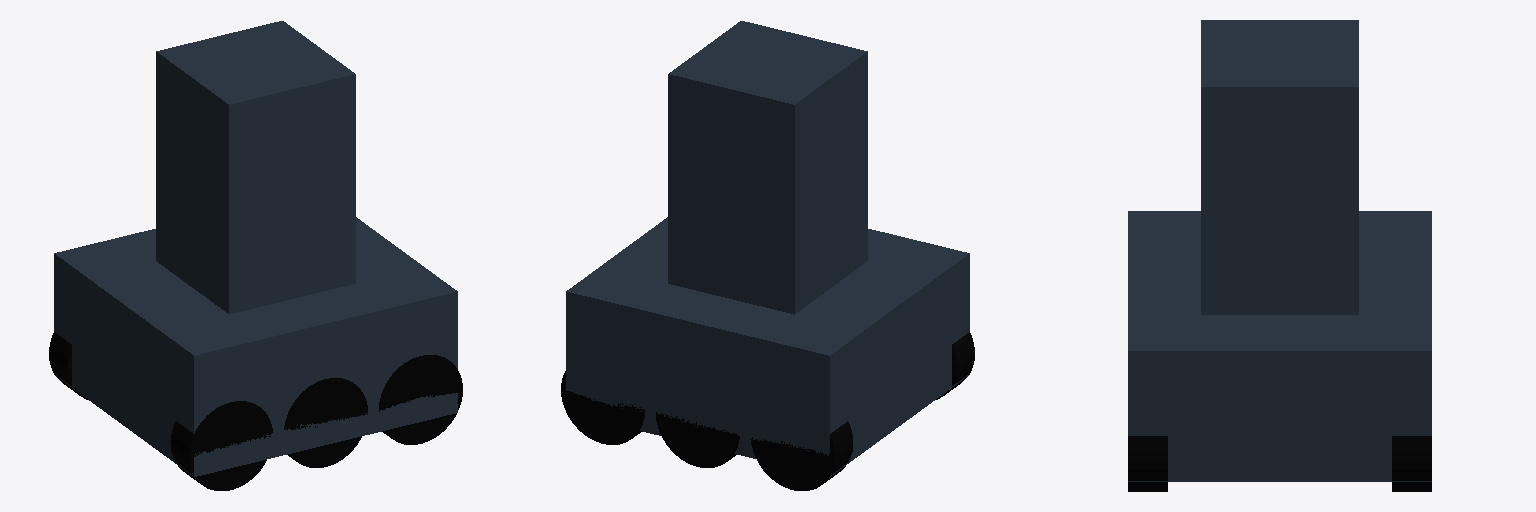
The robot description file, URDF, robot "wingbot_ugv":
<?xml version="1.0"?>
<!-- 자동 생성: WINGBOT-UGV. 프로파일의 가정 값 69개 포함 — scripts/calib_report.py. 직접 고치지 말 것 -->
<robot name="wingbot_ugv">
  <material name="body"><color rgba="0.2 0.25 0.3 1"/></material>
  <material name="wheel"><color rgba="0.05 0.05 0.05 1"/></material>
  <material name="sensor"><color rgba="0.9 0.5 0.1 1"/></material>
  <link name="base_footprint"/>
  <joint name="base_joint" type="fixed"><parent link="base_footprint"/><child link="base_link"/><origin xyz="0 0 0.0400" rpy="0 0 0"/></joint>
  <link name="base_link">
    <inertial><origin xyz="0.0000 0.0000 0.0900" rpy="0 0 0"/><mass value="2.5400"/><inertia ixx="0.037531" ixy="0" ixz="0" iyy="0.039851" iyz="0" izz="0.027888"/></inertial>
    <visual><origin xyz="0 0 0.0350"/><geometry><box size="0.2500 0.2300 0.1100"/></geometry><material name="body"/></visual>
    <collision><origin xyz="0 0 0.0350"/><geometry><box size="0.2500 0.2300 0.1100"/></geometry></collision>
    <visual><origin xyz="0 0 0.1850"/><geometry><box size="0.120 0.120 0.1900"/></geometry><material name="body"/></visual>
    <collision><origin xyz="0 0 0.1850"/><geometry><box size="0.120 0.120 0.1900"/></geometry></collision>
  </link>
  <link name="wheel_front_left">
    <inertial><origin xyz="0.0000 0.0000 0.0000" rpy="0 0 0"/><mass value="0.0600"/><inertia ixx="0.000028" ixy="0" ixz="0" iyy="0.000048" iyz="0" izz="0.000028"/></inertial>
    <visual><origin rpy="1.57080 0 0"/><geometry><cylinder radius="0.0400" length="0.0300"/></geometry><material name="wheel"/></visual>
    <collision><origin rpy="1.57080 0 0"/><geometry><cylinder radius="0.0400" length="0.0300"/></geometry></collision>
  </link>
  <joint name="wheel_front_left_joint" type="continuous"><parent link="base_link"/><child link="wheel_front_left"/><origin xyz="0.0900 0.1000 0" rpy="0 0 0"/><axis xyz="0 1 0"/><dynamics damping="0.01" friction="0.01"/></joint>
  <gazebo reference="wheel_front_left"><mu1>0.800</mu1><mu2>0.800</mu2><kp>1e5</kp><kd>1.0</kd></gazebo>
  <link name="wheel_front_right">
    <inertial><origin xyz="0.0000 0.0000 0.0000" rpy="0 0 0"/><mass value="0.0600"/><inertia ixx="0.000028" ixy="0" ixz="0" iyy="0.000048" iyz="0" izz="0.000028"/></inertial>
    <visual><origin rpy="1.57080 0 0"/><geometry><cylinder radius="0.0400" length="0.0300"/></geometry><material name="wheel"/></visual>
    <collision><origin rpy="1.57080 0 0"/><geometry><cylinder radius="0.0400" length="0.0300"/></geometry></collision>
  </link>
  <joint name="wheel_front_right_joint" type="continuous"><parent link="base_link"/><child link="wheel_front_right"/><origin xyz="0.0900 -0.1000 0" rpy="0 0 0"/><axis xyz="0 1 0"/><dynamics damping="0.01" friction="0.01"/></joint>
  <gazebo reference="wheel_front_right"><mu1>0.800</mu1><mu2>0.800</mu2><kp>1e5</kp><kd>1.0</kd></gazebo>
  <link name="wheel_mid_left">
    <inertial><origin xyz="0.0000 0.0000 0.0000" rpy="0 0 0"/><mass value="0.0600"/><inertia ixx="0.000028" ixy="0" ixz="0" iyy="0.000048" iyz="0" izz="0.000028"/></inertial>
    <visual><origin rpy="1.57080 0 0"/><geometry><cylinder radius="0.0400" length="0.0300"/></geometry><material name="wheel"/></visual>
    <collision><origin rpy="1.57080 0 0"/><geometry><cylinder radius="0.0400" length="0.0300"/></geometry></collision>
  </link>
  <joint name="wheel_mid_left_joint" type="continuous"><parent link="base_link"/><child link="wheel_mid_left"/><origin xyz="0.0000 0.1000 0" rpy="0 0 0"/><axis xyz="0 1 0"/><dynamics damping="0.01" friction="0.01"/></joint>
  <gazebo reference="wheel_mid_left"><mu1>0.800</mu1><mu2>0.800</mu2><kp>1e5</kp><kd>1.0</kd></gazebo>
  <link name="wheel_mid_right">
    <inertial><origin xyz="0.0000 0.0000 0.0000" rpy="0 0 0"/><mass value="0.0600"/><inertia ixx="0.000028" ixy="0" ixz="0" iyy="0.000048" iyz="0" izz="0.000028"/></inertial>
    <visual><origin rpy="1.57080 0 0"/><geometry><cylinder radius="0.0400" length="0.0300"/></geometry><material name="wheel"/></visual>
    <collision><origin rpy="1.57080 0 0"/><geometry><cylinder radius="0.0400" length="0.0300"/></geometry></collision>
  </link>
  <joint name="wheel_mid_right_joint" type="continuous"><parent link="base_link"/><child link="wheel_mid_right"/><origin xyz="0.0000 -0.1000 0" rpy="0 0 0"/><axis xyz="0 1 0"/><dynamics damping="0.01" friction="0.01"/></joint>
  <gazebo reference="wheel_mid_right"><mu1>0.800</mu1><mu2>0.800</mu2><kp>1e5</kp><kd>1.0</kd></gazebo>
  <link name="wheel_rear_left">
    <inertial><origin xyz="0.0000 0.0000 0.0000" rpy="0 0 0"/><mass value="0.0600"/><inertia ixx="0.000028" ixy="0" ixz="0" iyy="0.000048" iyz="0" izz="0.000028"/></inertial>
    <visual><origin rpy="1.57080 0 0"/><geometry><cylinder radius="0.0400" length="0.0300"/></geometry><material name="wheel"/></visual>
    <collision><origin rpy="1.57080 0 0"/><geometry><cylinder radius="0.0400" length="0.0300"/></geometry></collision>
  </link>
  <joint name="wheel_rear_left_joint" type="continuous"><parent link="base_link"/><child link="wheel_rear_left"/><origin xyz="-0.0900 0.1000 0" rpy="0 0 0"/><axis xyz="0 1 0"/><dynamics damping="0.01" friction="0.01"/></joint>
  <gazebo reference="wheel_rear_left"><mu1>0.800</mu1><mu2>0.800</mu2><kp>1e5</kp><kd>1.0</kd></gazebo>
  <link name="wheel_rear_right">
    <inertial><origin xyz="0.0000 0.0000 0.0000" rpy="0 0 0"/><mass value="0.0600"/><inertia ixx="0.000028" ixy="0" ixz="0" iyy="0.000048" iyz="0" izz="0.000028"/></inertial>
    <visual><origin rpy="1.57080 0 0"/><geometry><cylinder radius="0.0400" length="0.0300"/></geometry><material name="wheel"/></visual>
    <collision><origin rpy="1.57080 0 0"/><geometry><cylinder radius="0.0400" length="0.0300"/></geometry></collision>
  </link>
  <joint name="wheel_rear_right_joint" type="continuous"><parent link="base_link"/><child link="wheel_rear_right"/><origin xyz="-0.0900 -0.1000 0" rpy="0 0 0"/><axis xyz="0 1 0"/><dynamics damping="0.01" friction="0.01"/></joint>
  <gazebo reference="wheel_rear_right"><mu1>0.800</mu1><mu2>0.800</mu2><kp>1e5</kp><kd>1.0</kd></gazebo>
  <link name="laser"/>
  <joint name="laser_joint" type="fixed"><parent link="base_link"/><child link="laser"/><origin xyz="0.00000 0.00000 0.20000" rpy="0.00000 0.00000 0.00000"/></joint>
  <link name="imu_link"/>
  <joint name="imu_link_joint" type="fixed"><parent link="base_link"/><child link="imu_link"/><origin xyz="0.00000 0.00000 0.05000" rpy="0.00000 0.00000 0.00000"/></joint>
  <link name="pan_link"/>
  <joint name="pan_link_joint" type="fixed"><parent link="base_link"/><child link="pan_link"/><origin xyz="0.00000 0.00000 0.20000" rpy="0.00000 0.00000 0.00000"/></joint>
  <link name="tilt_link"/>
  <joint name="tilt_link_joint" type="fixed"><parent link="pan_link"/><child link="tilt_link"/><origin xyz="0.00000 0.00000 0.00000" rpy="0.00000 0.00000 0.00000"/></joint>
  <link name="camera_link"/>
  <joint name="camera_link_joint" type="fixed"><parent link="tilt_link"/><child link="camera_link"/><origin xyz="0.05000 0.00000 0.03000" rpy="0.00000 0.00000 0.00000"/></joint>
  <link name="camera_optical"/>
  <joint name="camera_optical_joint" type="fixed"><parent link="camera_link"/><child link="camera_optical"/><origin xyz="0 0 0" rpy="-1.57080 0 -1.57080"/></joint>
  <link name="depth_link"/>
  <joint name="depth_link_joint" type="fixed"><parent link="base_link"/><child link="depth_link"/><origin xyz="0.10000 0.00000 0.10000" rpy="0.00000 0.00000 0.00000"/></joint>
  <link name="depth_optical"/>
  <joint name="depth_optical_joint" type="fixed"><parent link="depth_link"/><child link="depth_optical"/><origin xyz="0 0 0" rpy="-1.57080 0 -1.57080"/></joint>
</robot>

--- Render facts (derived) ---
3 views of the same robot in one strip: view 1: azimuth 30°, elevation 25°; view 2: azimuth 150°, elevation 25°; view 3: azimuth 270°, elevation 25° (orthographic).
Model wingbot_ugv with 16 links and 15 joints (6 continuous, 9 fixed), rooted at base_footprint, posed all joints at 0.
Visible links, largest first — view 1: base_link, wheel_rear_right, wheel_front_right, wheel_mid_right, wheel_rear_left; view 2: base_link, wheel_rear_left, wheel_front_left, wheel_mid_left, wheel_rear_right; view 3: base_link, wheel_front_left, wheel_front_right.
Link boxes in pixels (x1,y1,x2,y2): base_link: (54, 21, 457, 476); wheel_rear_right: (171, 401, 272, 490); wheel_front_right: (379, 355, 462, 444); wheel_mid_right: (284, 378, 367, 467); wheel_rear_left: (49, 332, 87, 399); base_link: (566, 21, 969, 476); wheel_rear_left: (751, 421, 852, 490); wheel_front_left: (561, 371, 644, 444); wheel_mid_left: (656, 412, 739, 467); wheel_rear_right: (936, 332, 974, 399); base_link: (1128, 20, 1431, 481); wheel_front_left: (1392, 436, 1431, 491); wheel_front_right: (1128, 436, 1167, 491).
Size in the robot's own frame: 0.26 by 0.23 by 0.32 metres.
Geometry: primitives only (box / cylinder / sphere), no mesh files.
